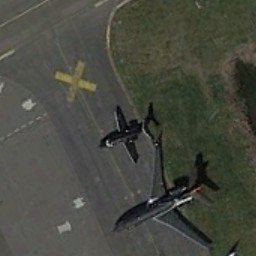Airplane: (109, 146, 228, 255), (92, 100, 159, 166)
